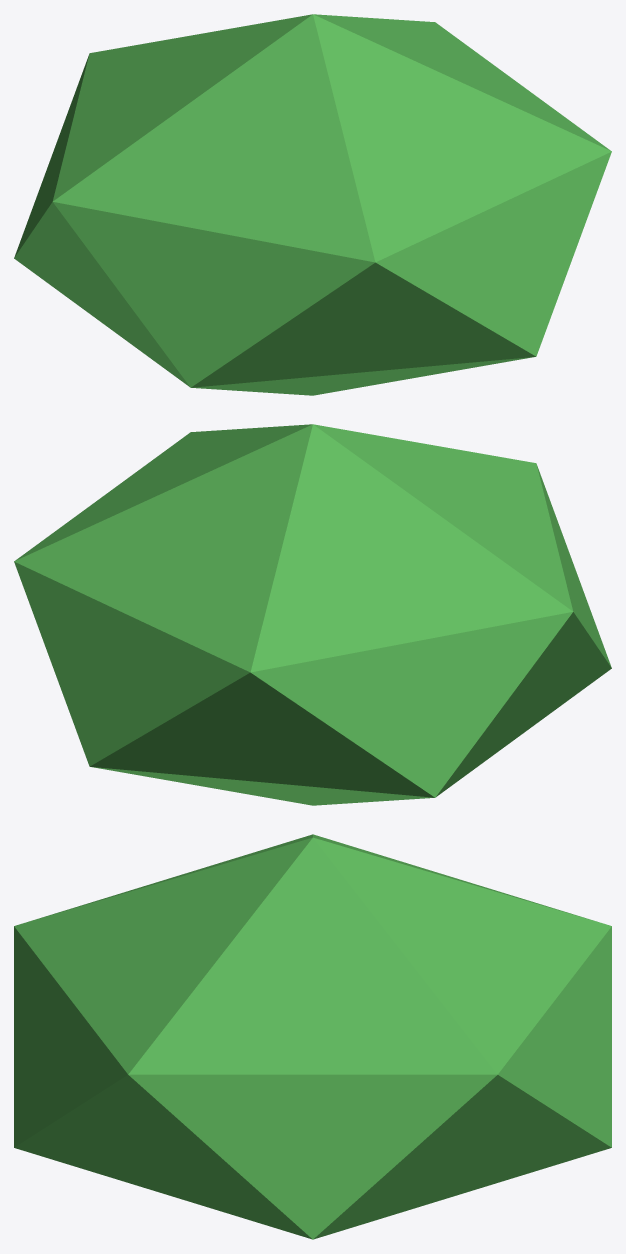
The model's file is plant_bush.glb.
The picture shows the model from 3 angles, top to bottom: view 1: azimuth 30°, elevation 25°; view 2: azimuth 150°, elevation 25°; view 3: azimuth 270°, elevation 25°; orthographic projection. The views are drawn at different scales.
Visible parts, largest first — view 1: plant_bush; view 2: plant_bush; view 3: plant_bush.
Part boxes in pixels (box(x1,y1,x2,y2)): plant_bush: box(14, 14, 611, 395); plant_bush: box(14, 424, 611, 805); plant_bush: box(14, 834, 611, 1239).
Bounding box in the file's own units: 0.14 × 0.098 × 0.1331.
